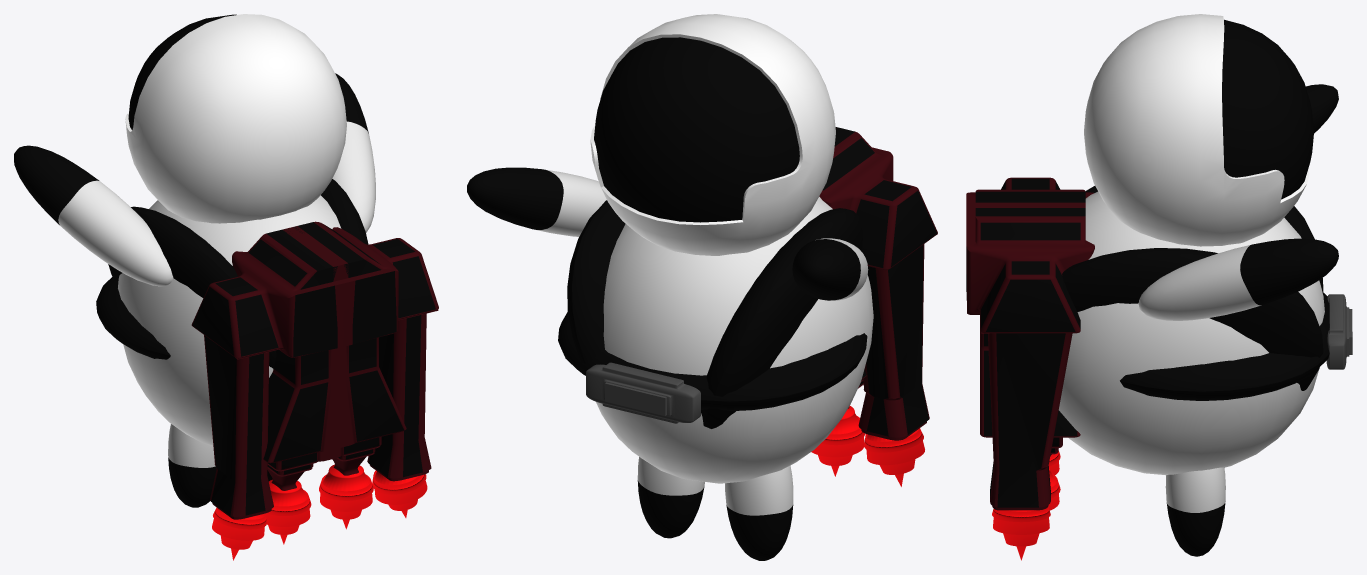
File: AstronautFlame.glb
3 renders of one model, left to right at view 1: azimuth 30°, elevation 25°; view 2: azimuth 150°, elevation 25°; view 3: azimuth 270°, elevation 25°, orthographic. The views are drawn at different scales.
Visible parts, largest first — view 1: Cube.007, Cube.001, Cube.005, Cube.002, Cube.008, Cube.004, Cube.010, Sphere, Sphere.001, Sphere.002, Sphere.003, Cube.003; view 2: Cube.002, Cube.003, Cube.007, Cube.001, Cube.008, Cube.005, Cube.004, Cube.010, Cube.009, Sphere.002, Sphere.001; view 3: Cube.001, Cube.002, Cube.007, Cube.003, Cube.005, Cube.008, Cube.010, Cube.004, Sphere.003, Cube.009.
Part boxes in pixels (x1,y1,x2,y2): Cube.007: (191, 221, 438, 519); Cube.001: (125, 14, 346, 223); Cube.005: (14, 73, 375, 286); Cube.002: (118, 195, 341, 446); Cube.008: (108, 179, 368, 368); Cube.004: (168, 424, 272, 507); Cube.010: (96, 277, 170, 359); Sphere: (319, 464, 373, 529); Sphere.001: (265, 479, 311, 544); Sphere.002: (212, 507, 266, 560); Sphere.003: (372, 470, 427, 517); Cube.003: (128, 14, 236, 129); Cube.002: (596, 196, 873, 483); Cube.003: (594, 37, 799, 222); Cube.007: (819, 127, 937, 440); Cube.001: (590, 14, 835, 255); Cube.008: (567, 200, 862, 428); Cube.005: (467, 167, 868, 300); Cube.004: (637, 457, 793, 560); Cube.010: (558, 312, 867, 410); Cube.009: (586, 362, 700, 423); Sphere.002: (864, 428, 924, 486); Sphere.001: (811, 406, 865, 476); Cube.001: (1084, 14, 1309, 246); Cube.002: (1058, 191, 1324, 475); Cube.007: (966, 177, 1094, 510); Cube.003: (1222, 19, 1313, 199); Cube.005: (1138, 84, 1338, 320); Cube.008: (1062, 186, 1323, 390); Cube.010: (1120, 292, 1329, 400); Cube.004: (1165, 467, 1225, 556); Sphere.003: (992, 506, 1050, 560); Cube.009: (1326, 294, 1352, 369).
Bounding box in the file's own units: 2.94 × 4.02 × 2.77.
